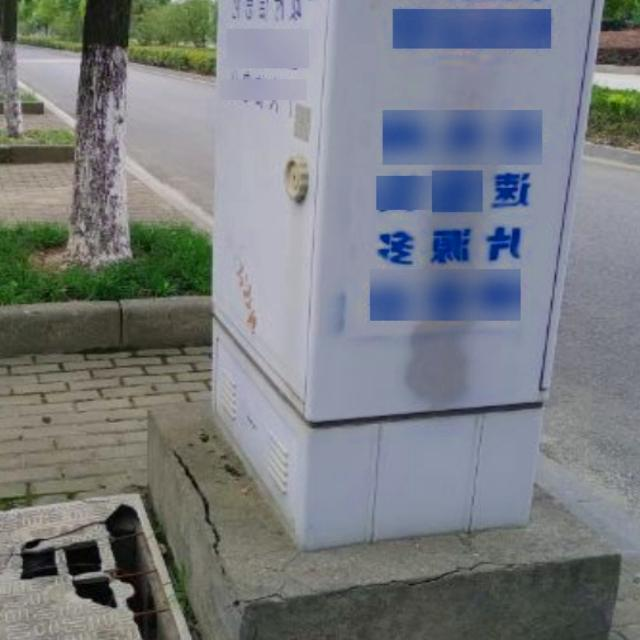broke: (0, 488, 208, 640)
